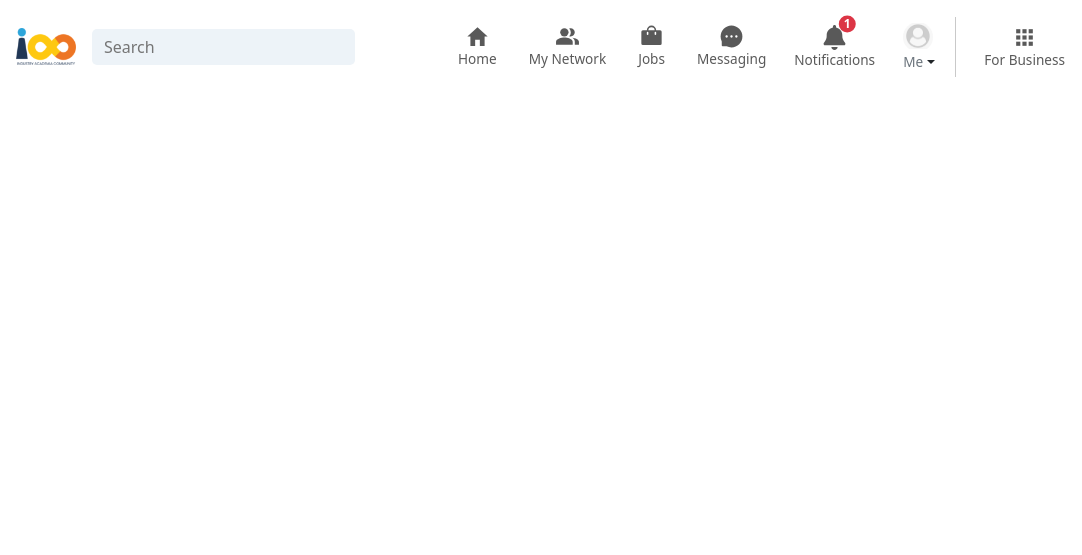
Test: Navbar › should render dropdown correctly
Click the element with test id "dropdown" at (919, 47), box [903,22,935,72]
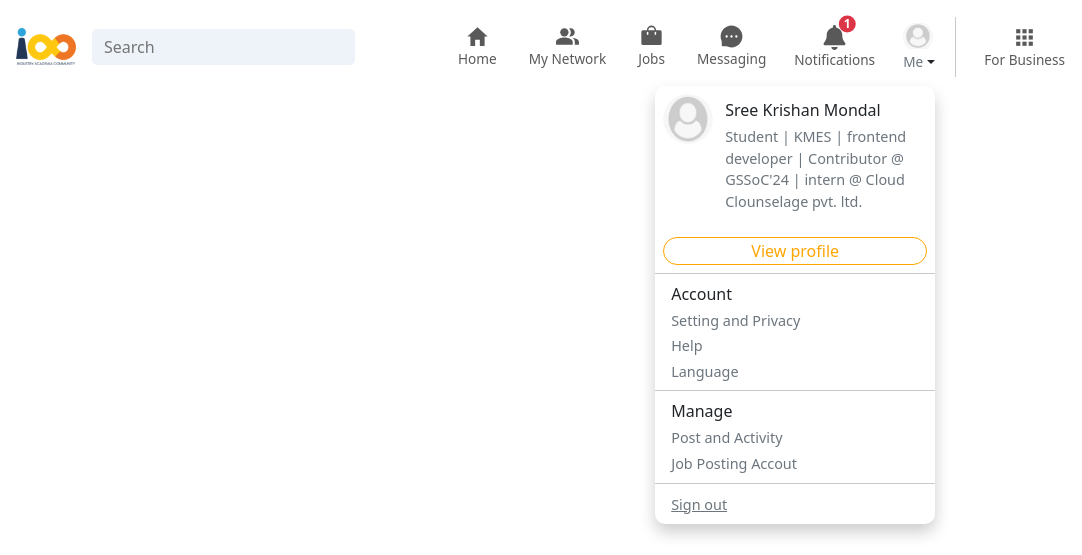
Result: the list with test id "dropdown-content" is shown at [655,86,935,524]
